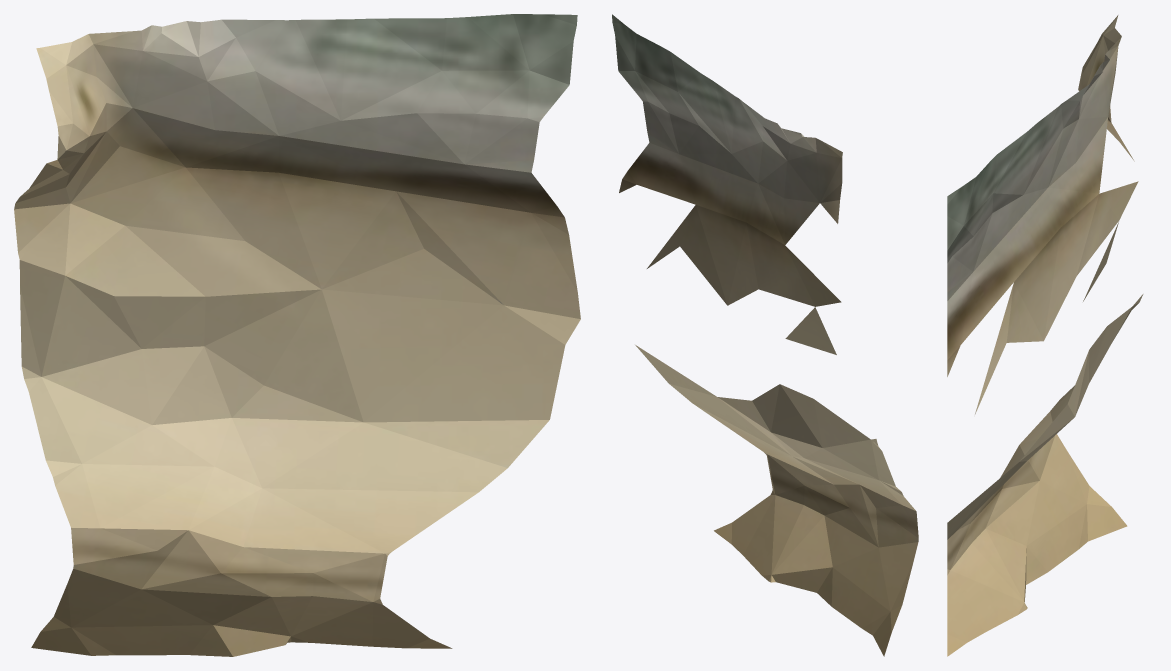
3 views of the same model, side by side, from view 1: azimuth 30°, elevation 25°; view 2: azimuth 150°, elevation 25°; view 3: azimuth 270°, elevation 25° (orthographic). The views are drawn at different scales.
Bounding box in the file's own units: 0.6441 × 0.8374 × 0.3104.
Materials: 2 (2 with a texture image).
